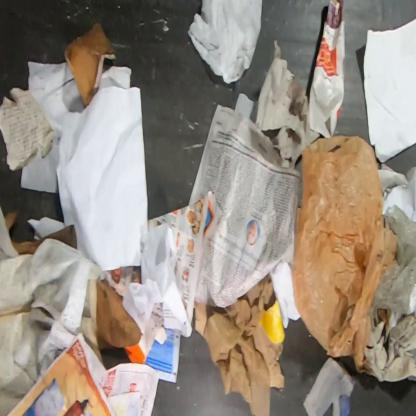cardboard: (63, 21, 116, 109), (12, 224, 78, 256), (4, 209, 20, 236)
soft_plastic: (291, 134, 398, 375), (187, 0, 263, 85), (367, 204, 415, 333), (378, 309, 392, 336)
